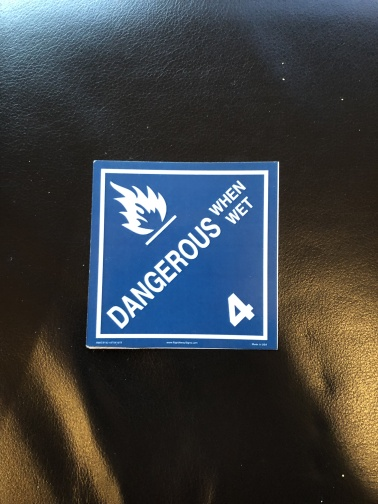DangerousWhenWet: (90, 159, 274, 348)
